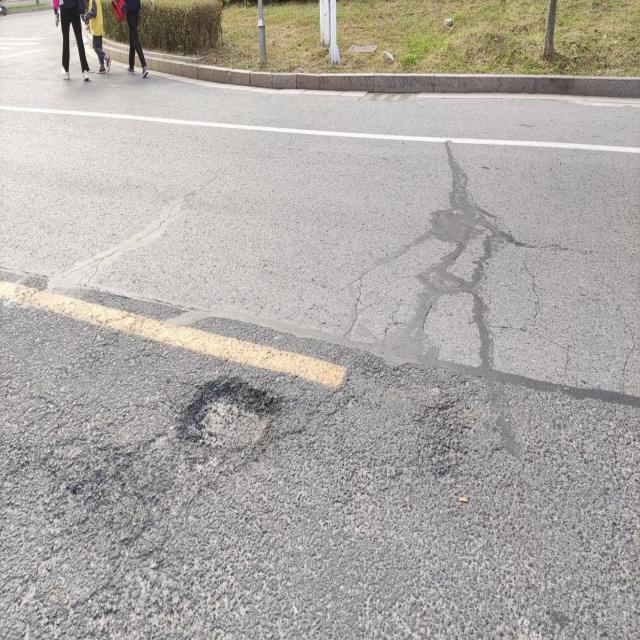Pothole: (183, 379, 277, 467)
